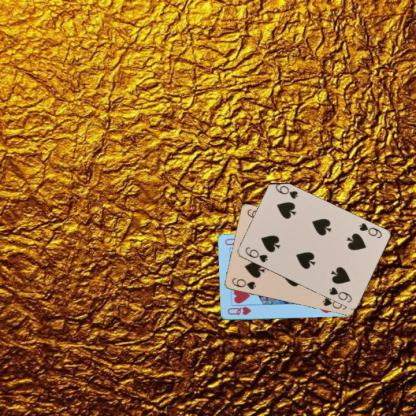6s: (242, 244, 269, 264), (357, 220, 383, 240), (229, 275, 257, 291)
Qh: (225, 304, 252, 317)
